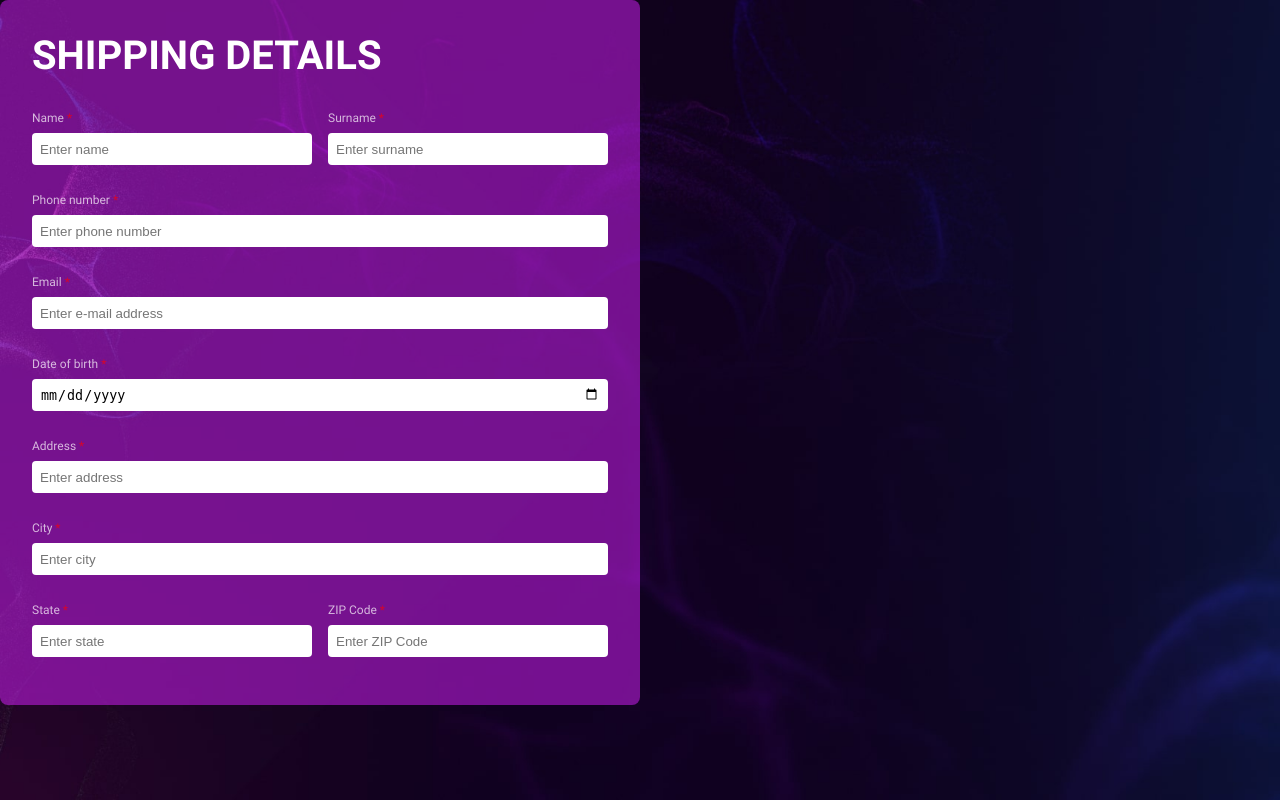
Test: PurchaseForm › Should display validation error for email
Type "incorrect-email" into the field with test id "PurchaseForm__EmailInput" at (320, 313), box [32,297,608,329]
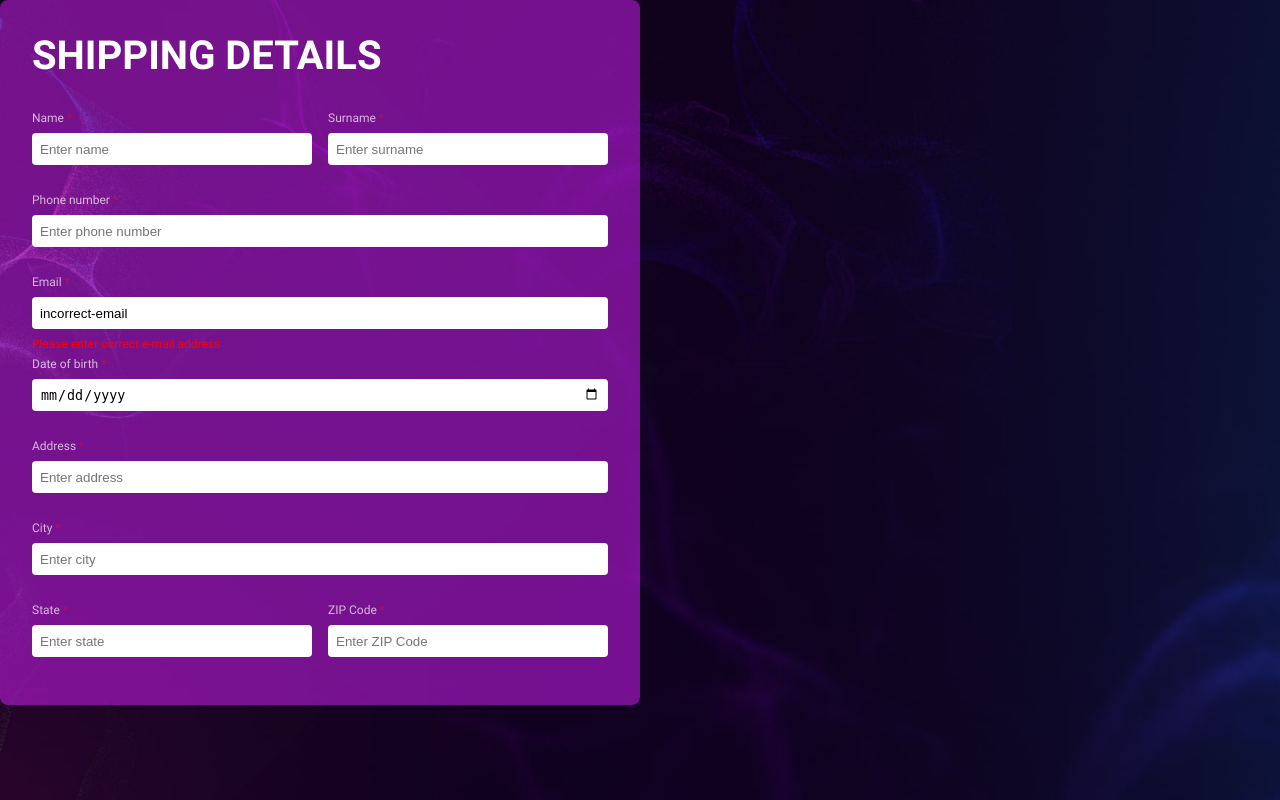
Expected: the text "Please enter correct e-mail address" is shown, [32,337,220,345]
